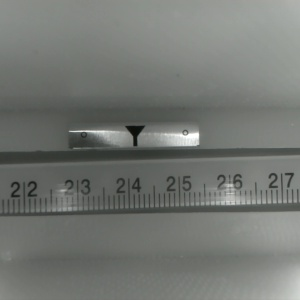2: (62, 179, 74, 194), (267, 173, 278, 189), (115, 177, 125, 194), (165, 176, 175, 192), (10, 181, 20, 197), (215, 174, 225, 189)
3: (80, 178, 90, 194)
4: (131, 177, 141, 193)
5: (182, 175, 191, 191)
6: (231, 173, 241, 188)
7: (284, 172, 294, 188)
finger: (123, 126, 145, 147)
